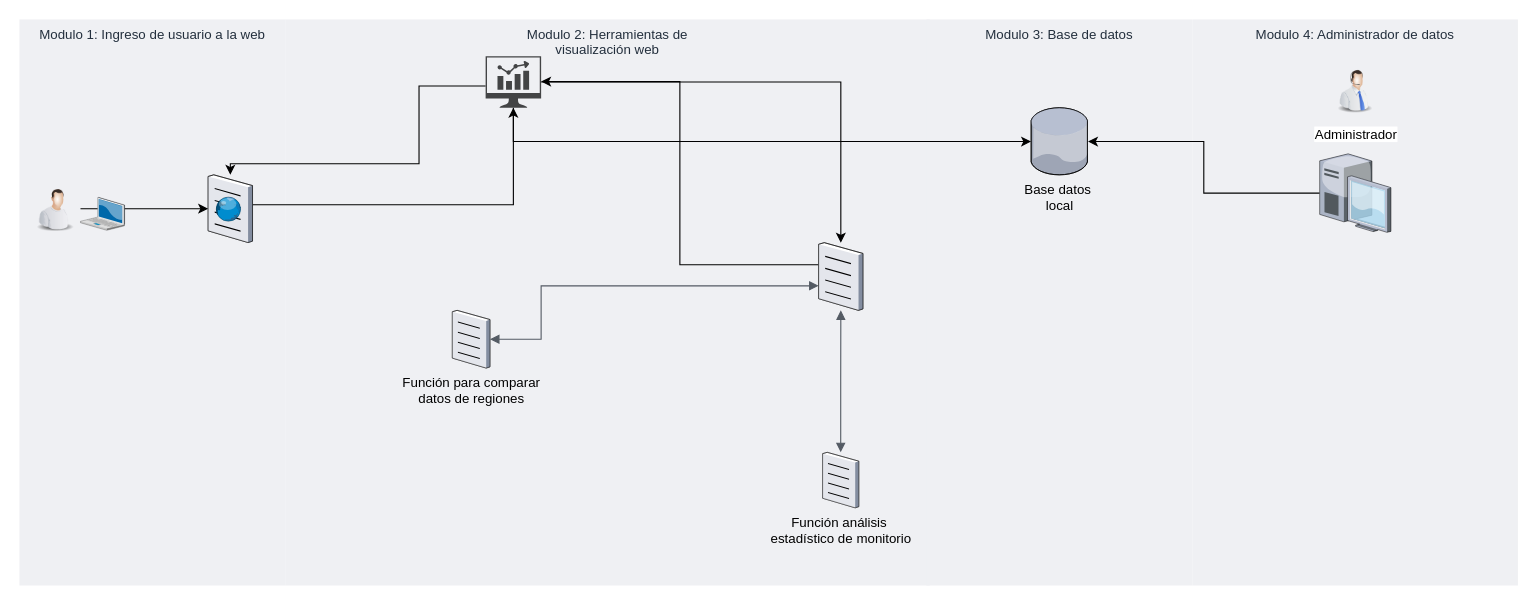
The diagram is 1536 pixels wide and 604 high, and some of its shapes have lost their labels. Here are the shapes that lost their labels. From the top down, the centre of each, then its label:
(x=513, y=81): Dashboard
(x=55, y=208): Usuario
(x=230, y=208): Navegador web
(x=840, y=276): Streamlit
